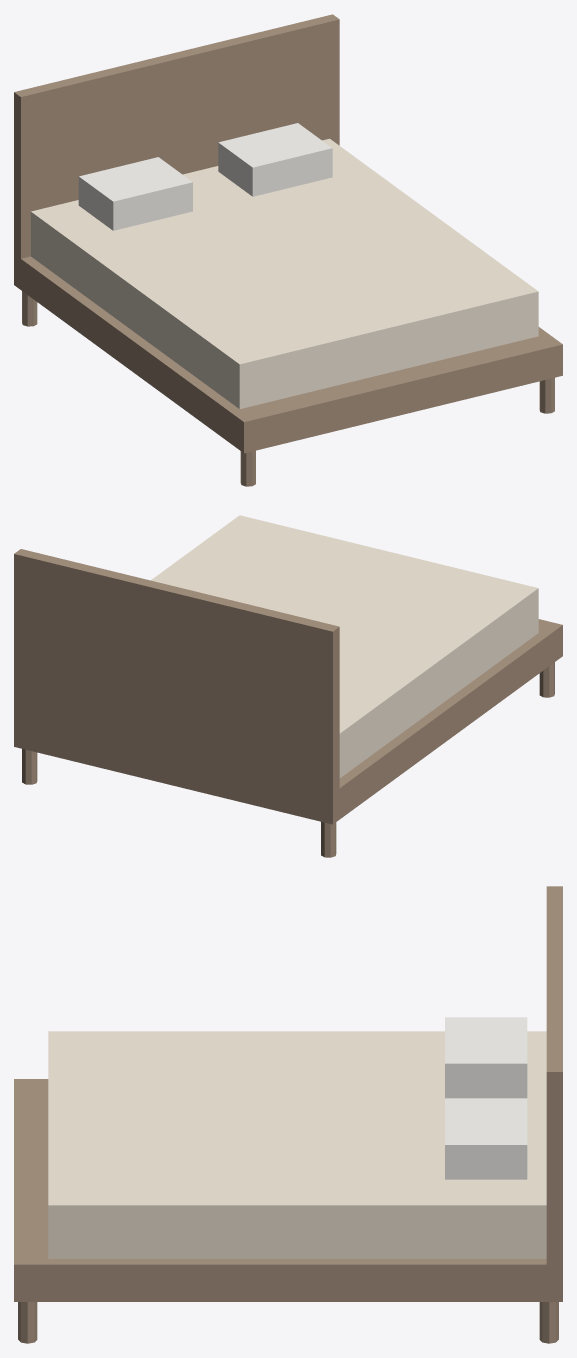
Rendered from bed.glb.
3 views of the same model, one above another, from view 1: azimuth 30°, elevation 25°; view 2: azimuth 150°, elevation 25°; view 3: azimuth 270°, elevation 25° (orthographic). The views are drawn at different scales.
Visible parts, largest first — view 1: part_1, part_2, part_0, part_3, part_4; view 2: part_2, part_1, part_0, part_5, part_6, part_7; view 3: part_1, part_0, part_4, part_3, part_2, part_6, part_8.
Part boxes in pixels (x1,y1,x2,y2): part_1: (31,138,538,408); part_2: (14,14,339,262); part_0: (14,255,562,453); part_3: (78,157,192,230); part_4: (218,123,332,196); part_2: (14,549,339,797); part_1: (151,515,538,778); part_0: (14,619,562,824); part_5: (321,822,336,857); part_6: (22,749,37,784); part_7: (539,662,554,697); part_1: (48,1031,546,1258); part_0: (14,1079,562,1301); part_4: (445,1098,527,1179); part_3: (445,1017,527,1098); part_2: (546,886,562,1270); part_6: (539,1302,558,1343); part_8: (18,1302,37,1343).
Bounding box in the file's own units: 1.6 × 1.1 × 2.
